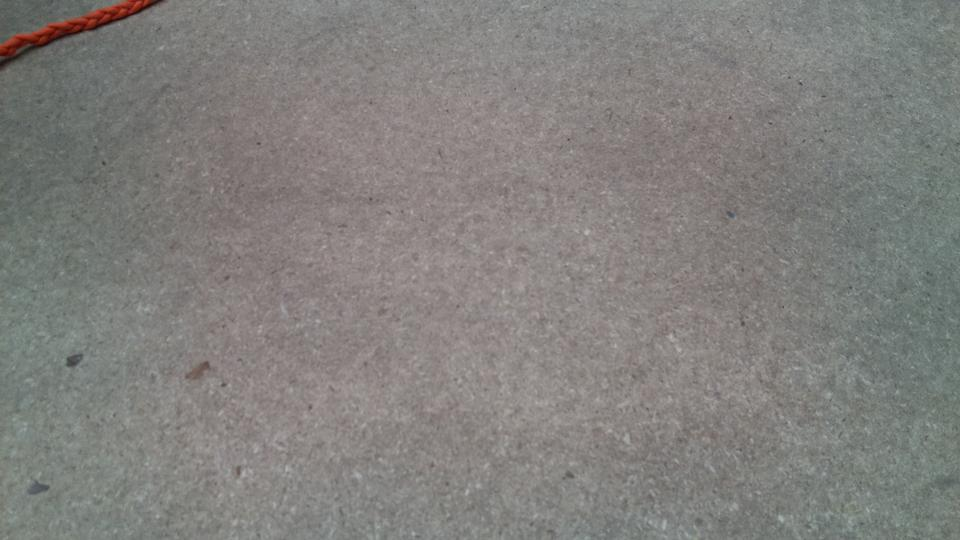rope: (1, 1, 148, 62)
